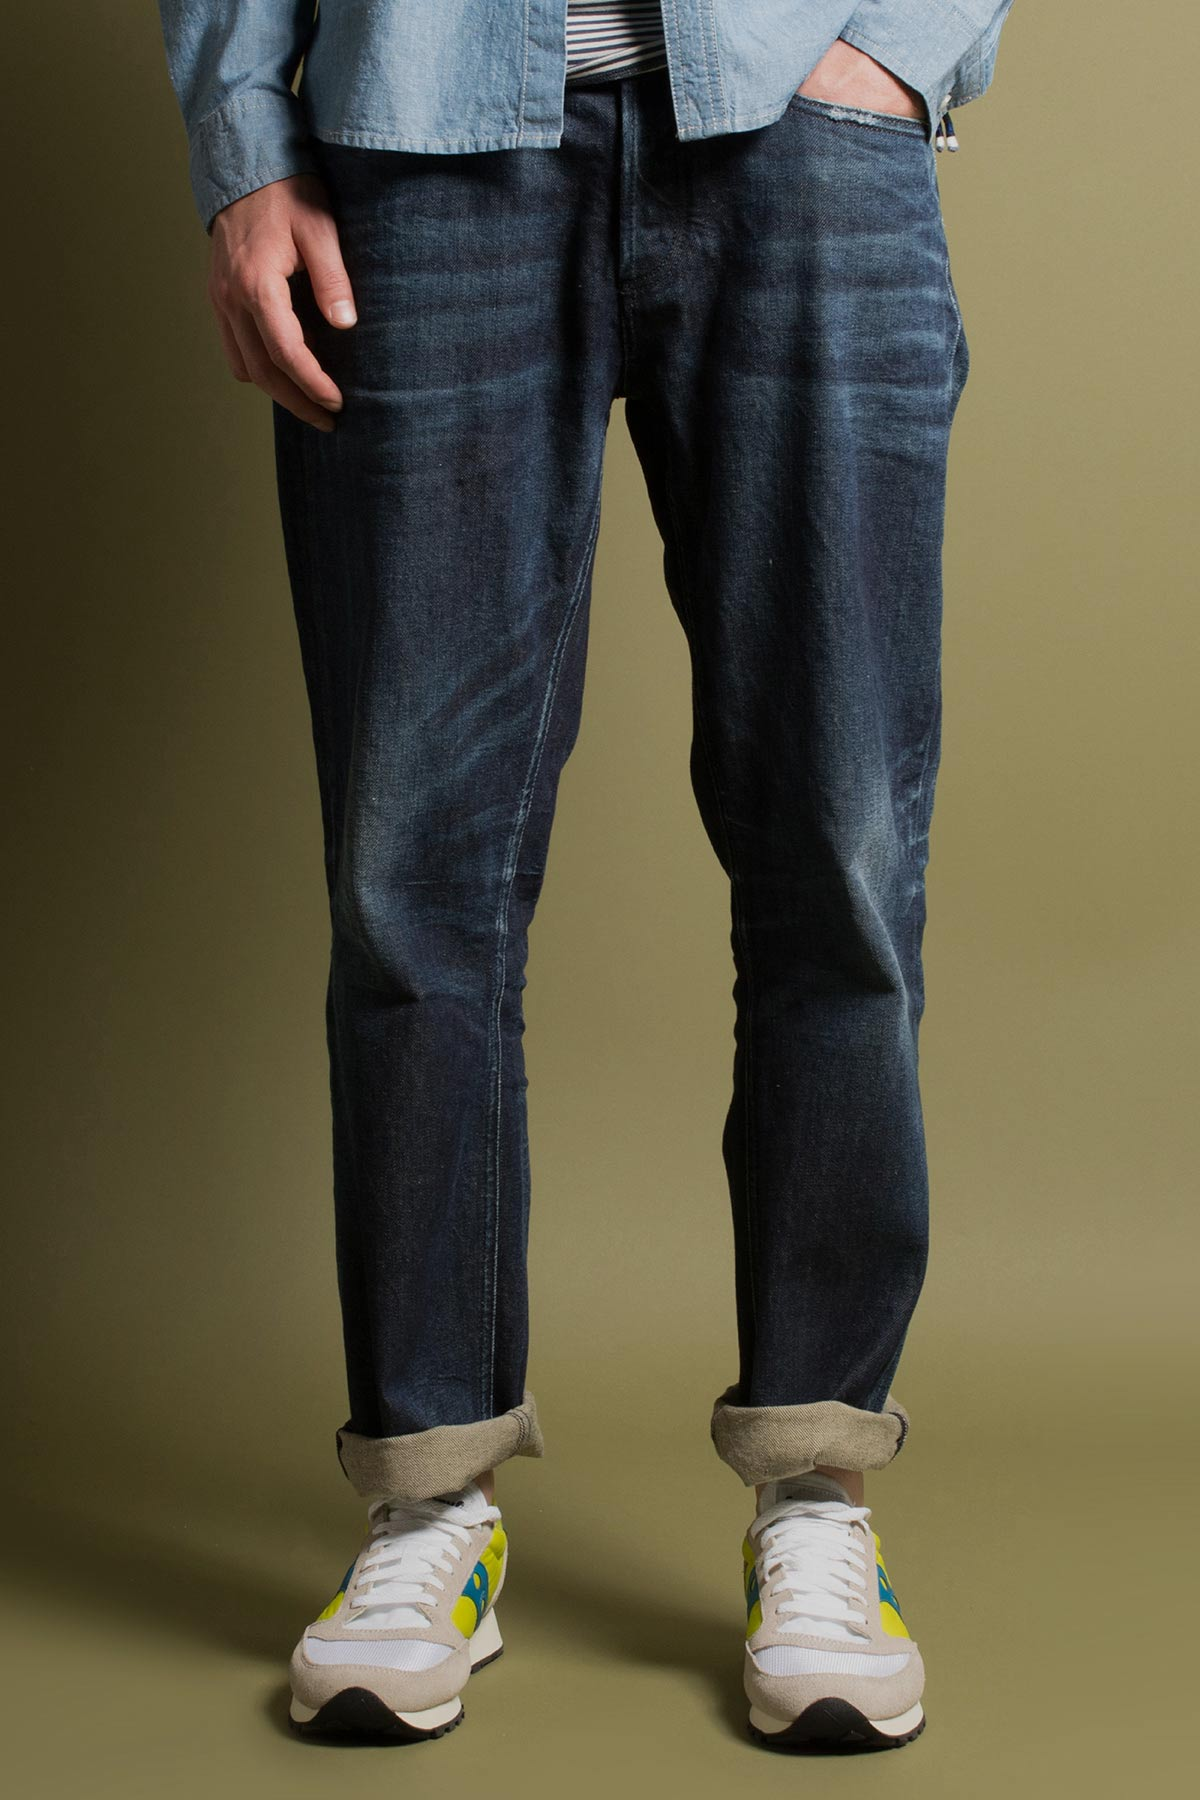jeans: (279, 74, 991, 1511)
